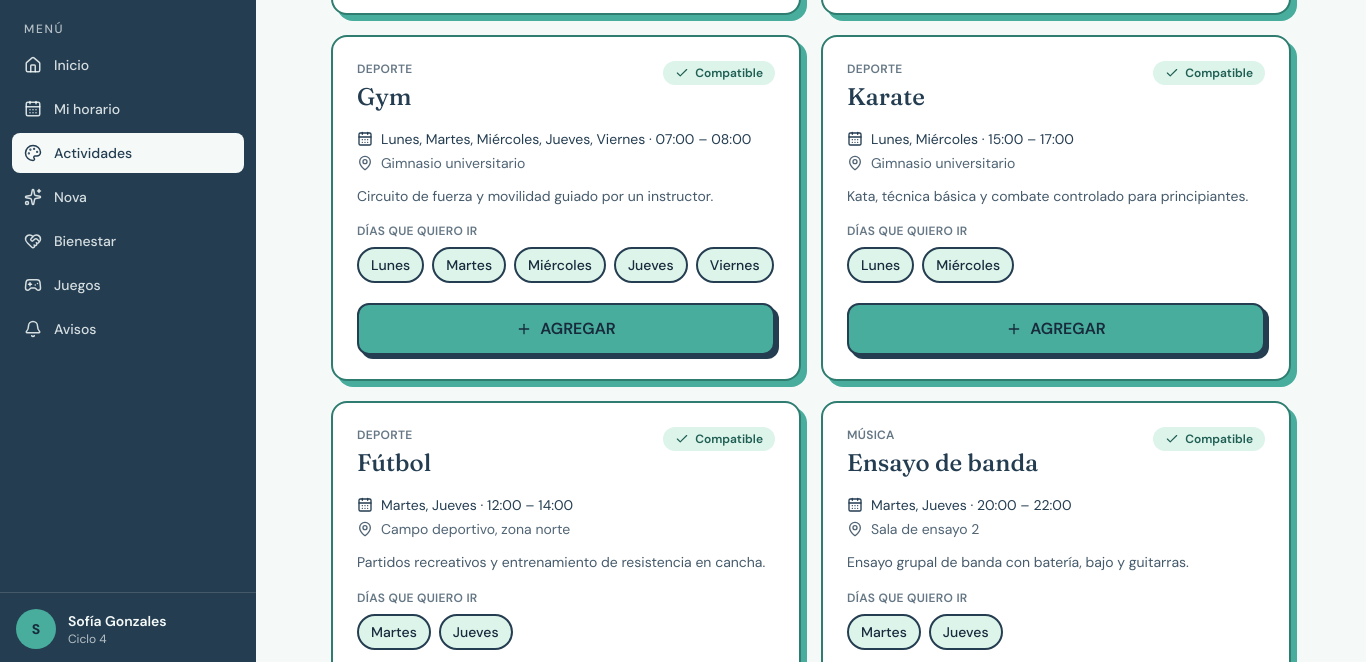
Test case: Explorar actividades › una actividad agregada pone en rojo a las que chocan con ella
The image size is (1366, 662).
(page scrolled)
Click the button "AGREGAR" below "17:00" at x=1056, y=329, box [847, 303, 1265, 355]
(page scrolled)
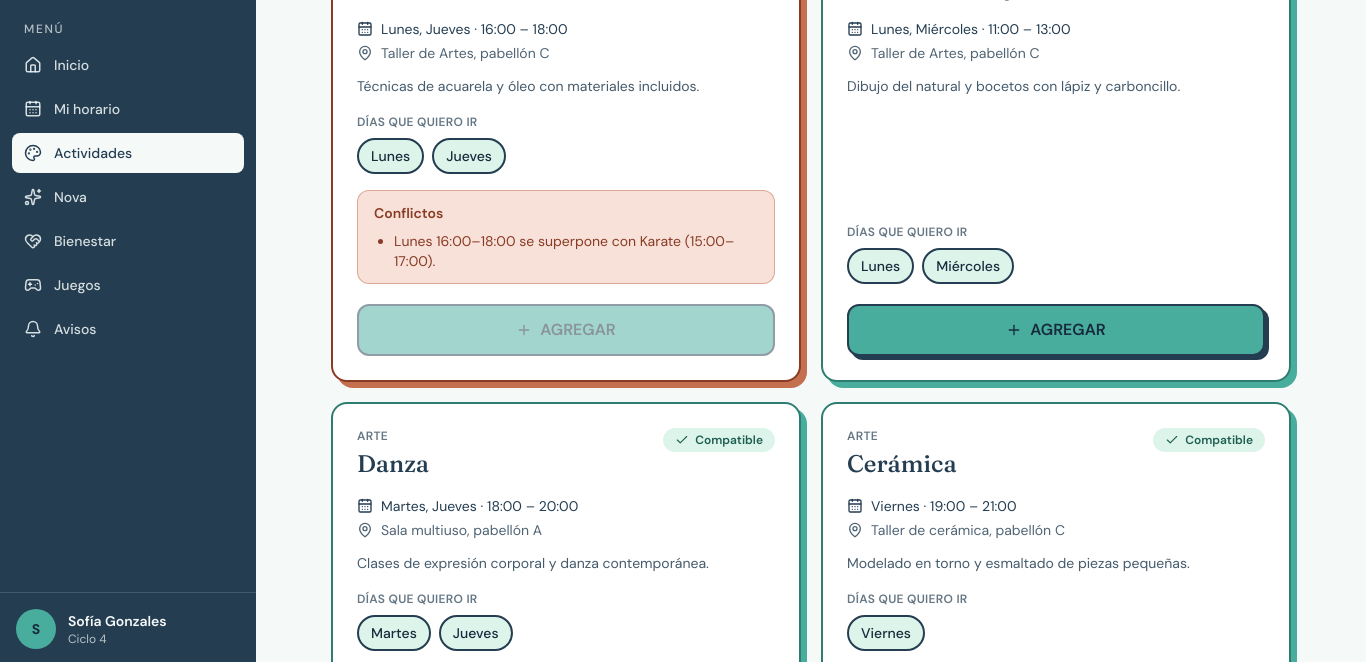
expect the list item "Lunes 16:00–18:00 se superpone con Karate (15:00–17:00)." is shown: met, box [394, 231, 758, 271]
expect the button "AGREGAR" below "Conflictos" is disabled: met, box [357, 304, 775, 356]
